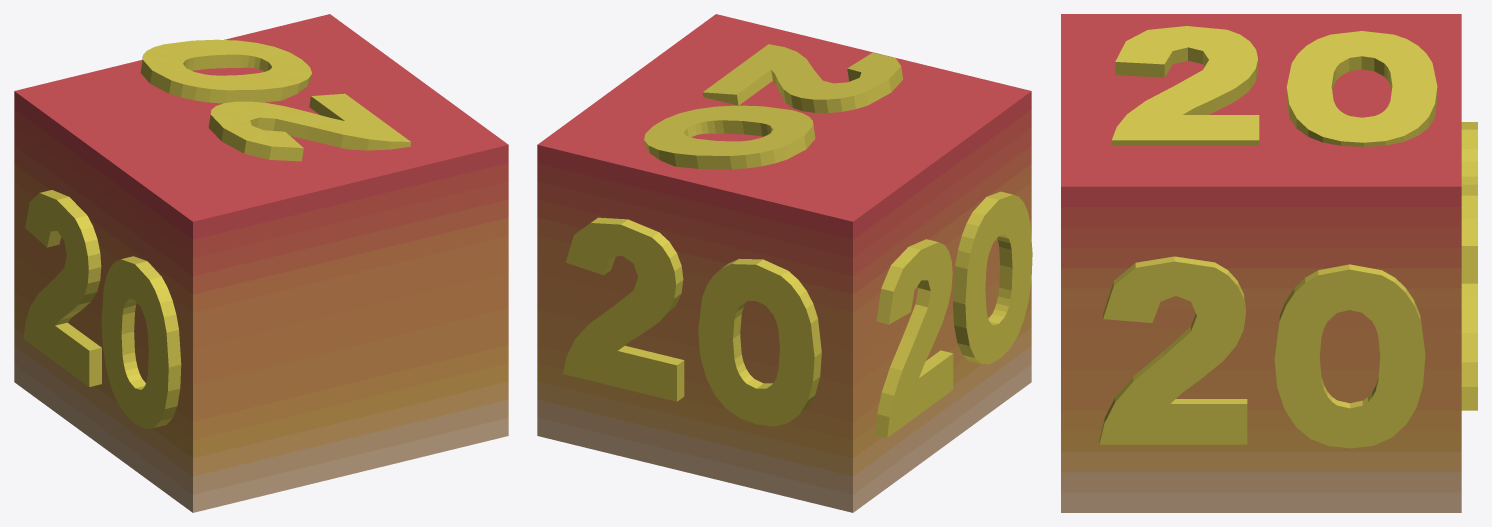
File: number20.glb
3 views of the same model, side by side, from view 1: azimuth 30°, elevation 25°; view 2: azimuth 150°, elevation 25°; view 3: azimuth 270°, elevation 25° (orthographic). The views are drawn at different scales.
Visible parts, largest first — view 1: Mesh_Mesh_head_geo.001_lambert2SG.001; view 2: Mesh_Mesh_head_geo.001_lambert2SG.001; view 3: Mesh_Mesh_head_geo.001_lambert2SG.001.
Part boxes in pixels (x1=…): Mesh_Mesh_head_geo.001_lambert2SG.001: x1=14, y1=14, x2=508, y2=512; Mesh_Mesh_head_geo.001_lambert2SG.001: x1=537, y1=14, x2=1032, y2=512; Mesh_Mesh_head_geo.001_lambert2SG.001: x1=1061, y1=14, x2=1477, y2=512.
Size of the model in its own units: 0.108 by 0.0987 by 0.103.
